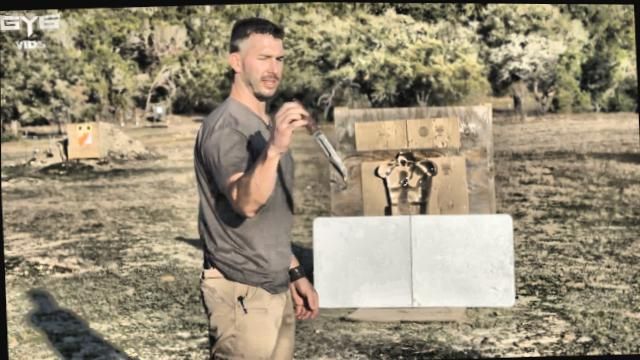knife: (285, 95, 350, 189)
